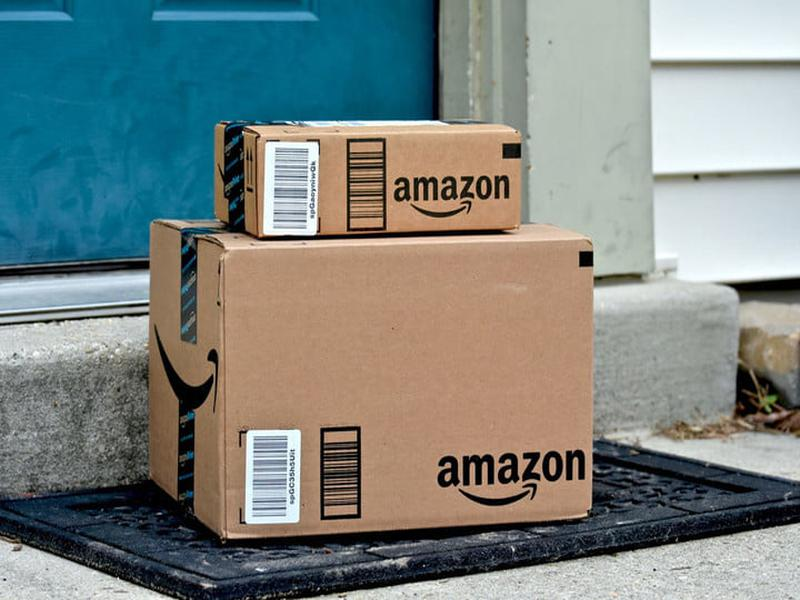package: (138, 216, 604, 547), (208, 110, 530, 240)
